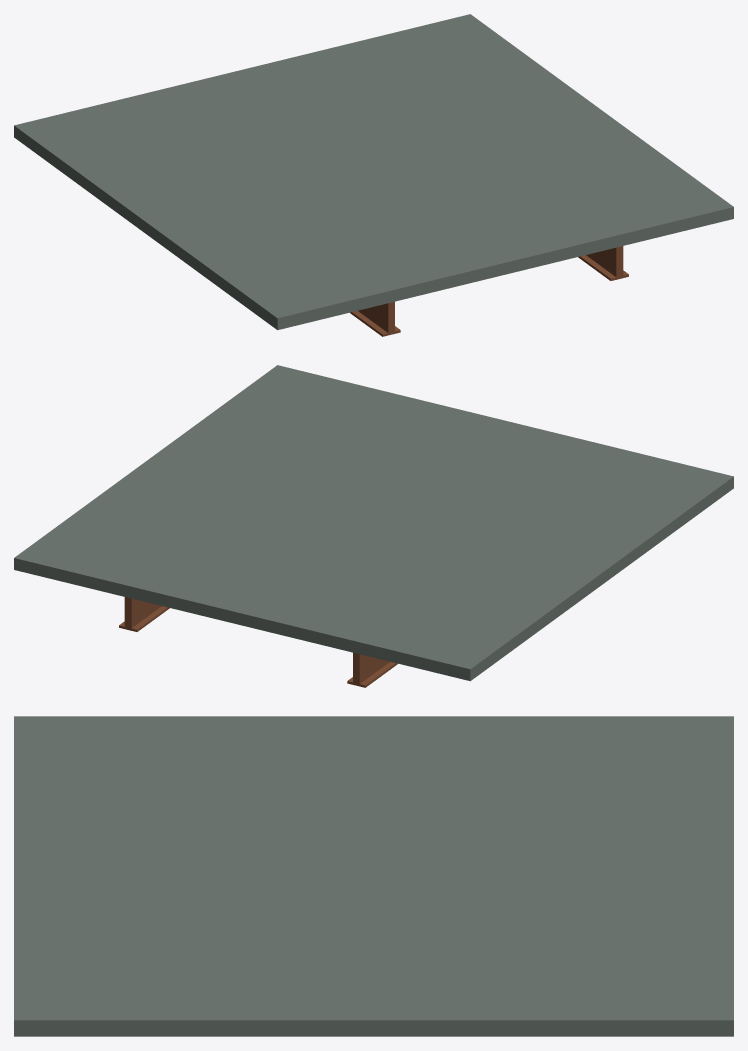
The model's file is SM_Ceiling.fbx.
The picture shows the model from 3 angles, top to bottom: view 1: azimuth 30°, elevation 25°; view 2: azimuth 150°, elevation 25°; view 3: azimuth 270°, elevation 25°; orthographic projection. The views are drawn at different scales.
Visible parts, largest first — view 1: SM_Ceiling; view 2: SM_Ceiling; view 3: SM_Ceiling.
Boxes of the visible parts, bbox=[...] form: SM_Ceiling: bbox=[14, 14, 733, 336]; SM_Ceiling: bbox=[14, 365, 733, 687]; SM_Ceiling: bbox=[14, 716, 733, 1036].
Size of what is drawn, in the model's own units: 4 by 0.37 by 4.
